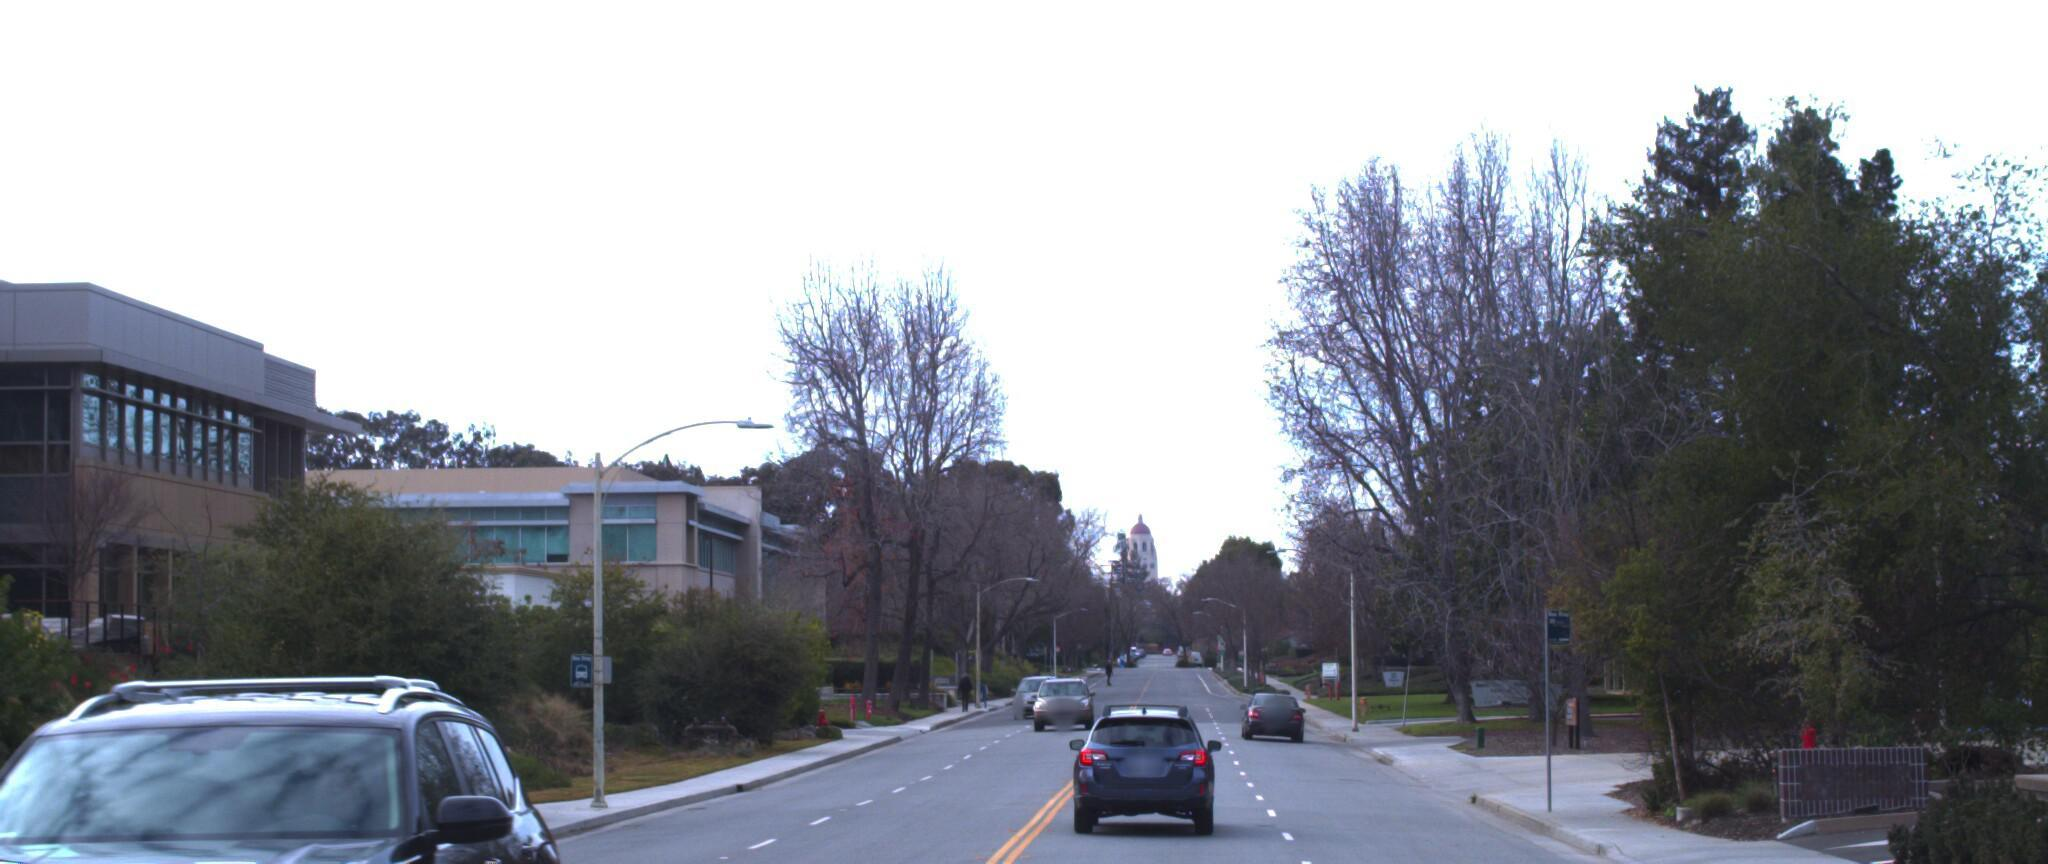car: (0, 671, 601, 864), (1068, 697, 1206, 827)
